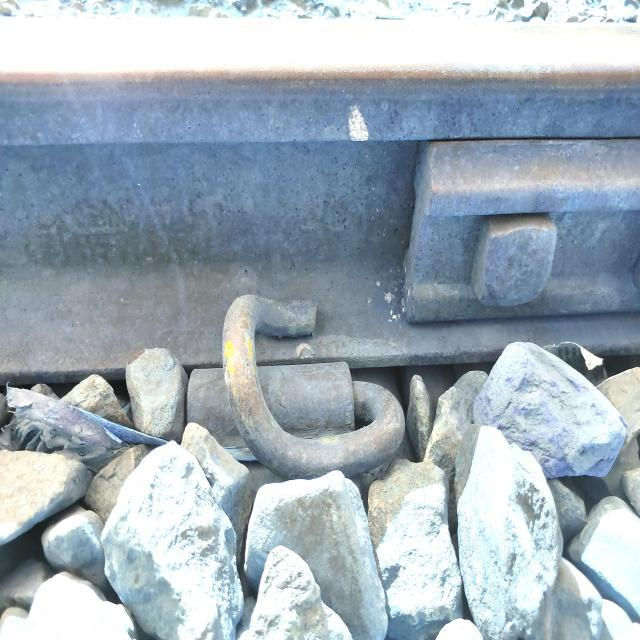Good Fasteners: (156, 292, 431, 470)
